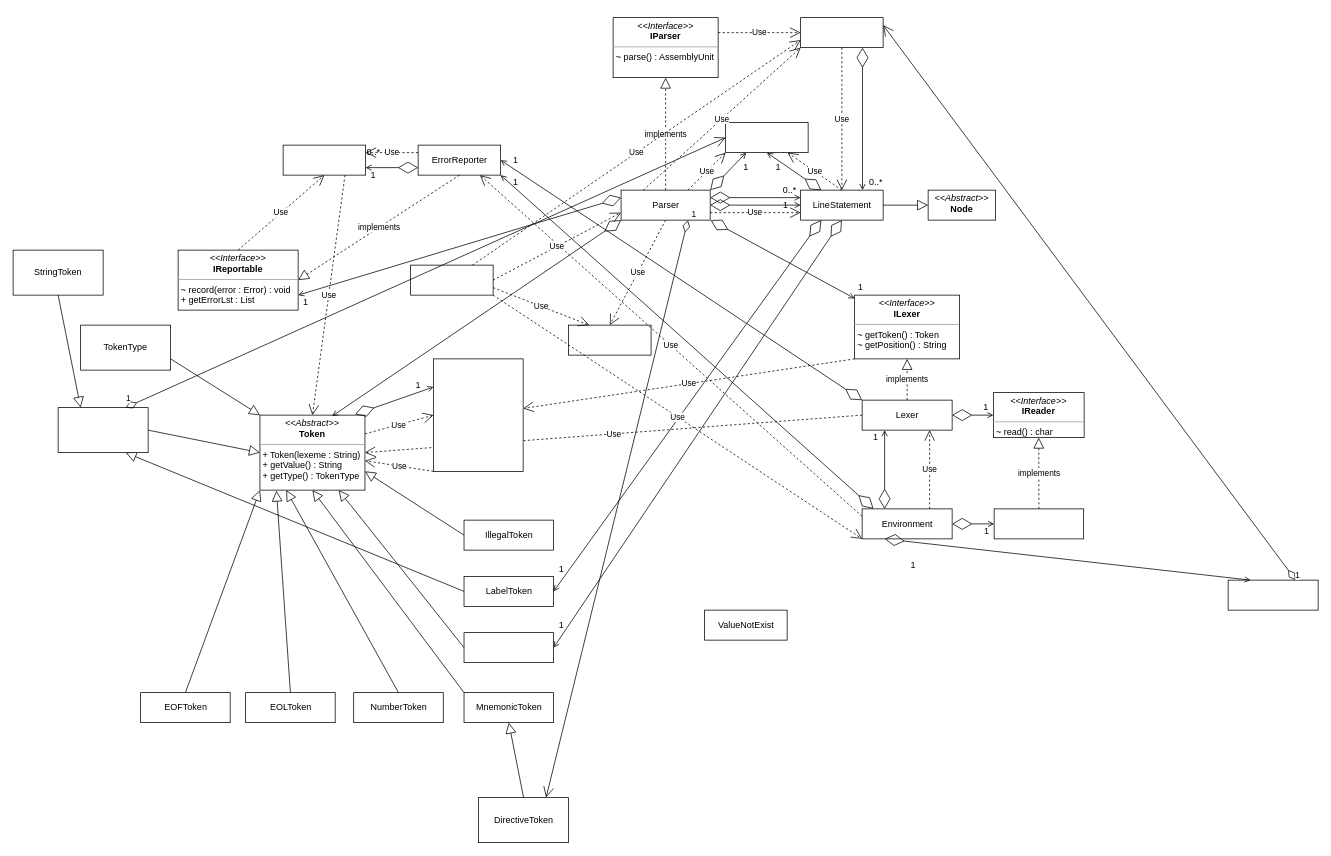
Image size: 1331x856. Some labels were removed from this diagram. The shapes that lost their labels are listed below. From the top down, each one's centre as x and y in pixels, then its label:
(841,32): AssemblyUnit
(766,137): Instruction
(324,159): Error
(451,279): Assembler
(609,339): SourceFile
(102,430): OperandToken
(478,414): <<Enumeration>> TokenType EOF EOL NUMBER COMMENT IDENT ILLEGAL_CHAR MNEMONIC
(1038,523): Reader
(1272,594): SymbolTable
(508,647): CommentToken
